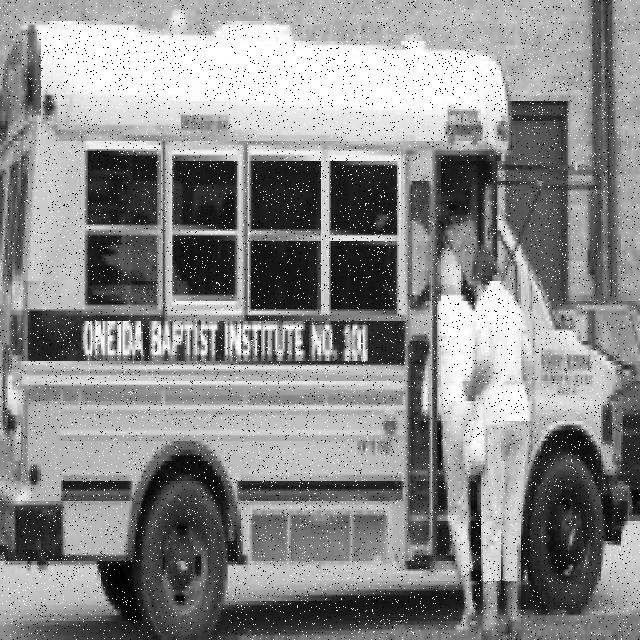Bus- Small: (0, 22, 630, 640)
